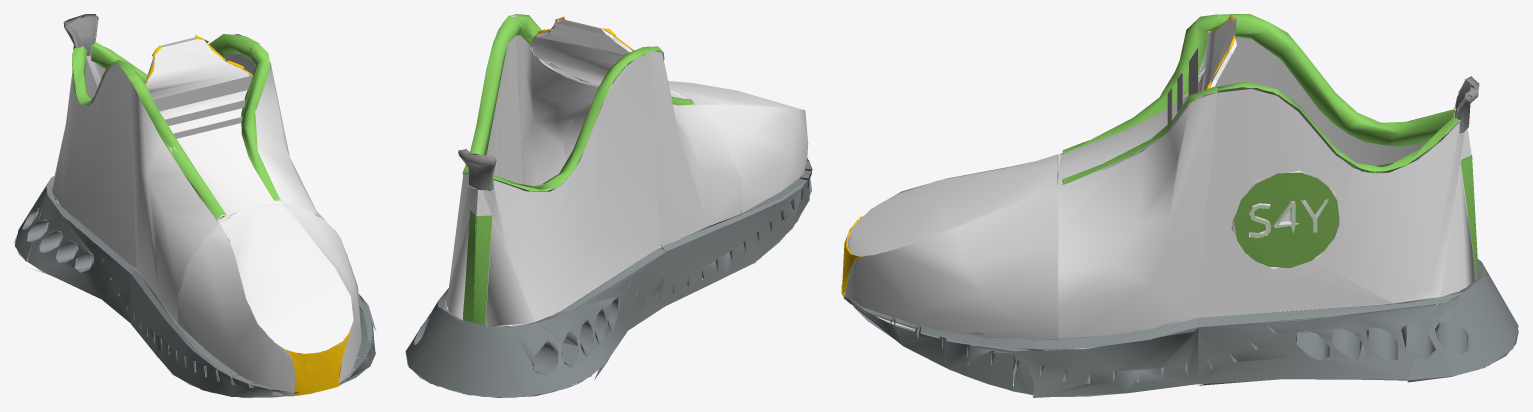
The model's file is shoe.fbx.
3 views of the same model, side by side, from view 1: azimuth 30°, elevation 25°; view 2: azimuth 150°, elevation 25°; view 3: azimuth 270°, elevation 25° (orthographic). The views are drawn at different scales.
Visible parts, largest first — view 1: Object; view 2: Object; view 3: Object.
Part boxes in pixels (x1,y1,x2,y2): Object: (14,14,376,397); Object: (405,14,812,397); Object: (841,14,1518,397).
Size of the model in its own units: 0.1103 by 0.1448 by 0.2825.
